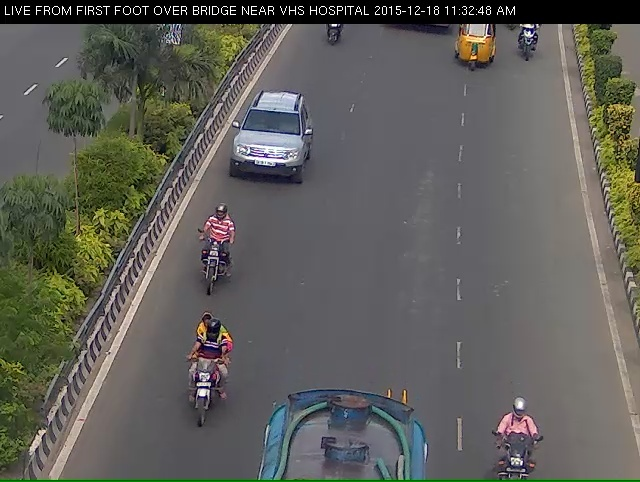Car: (221, 105, 312, 201), (445, 23, 501, 83)
Person: (162, 333, 217, 465), (189, 224, 233, 317), (310, 13, 353, 61), (516, 23, 555, 70)
